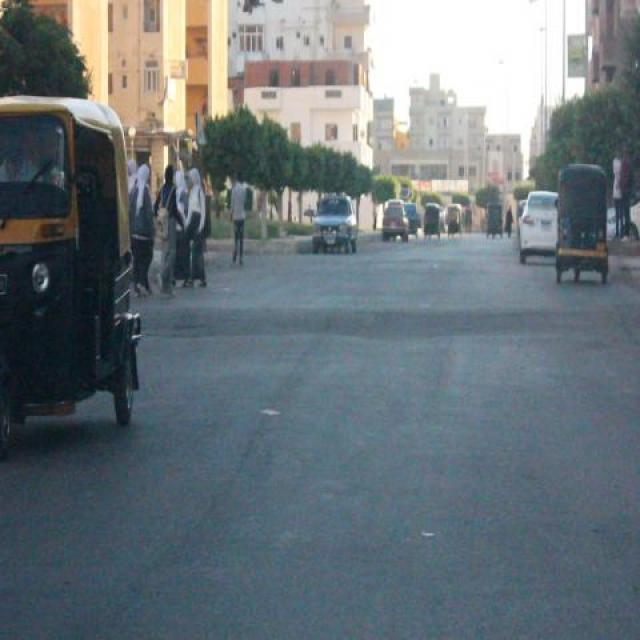Unmarked Bump: (137, 302, 640, 338)
